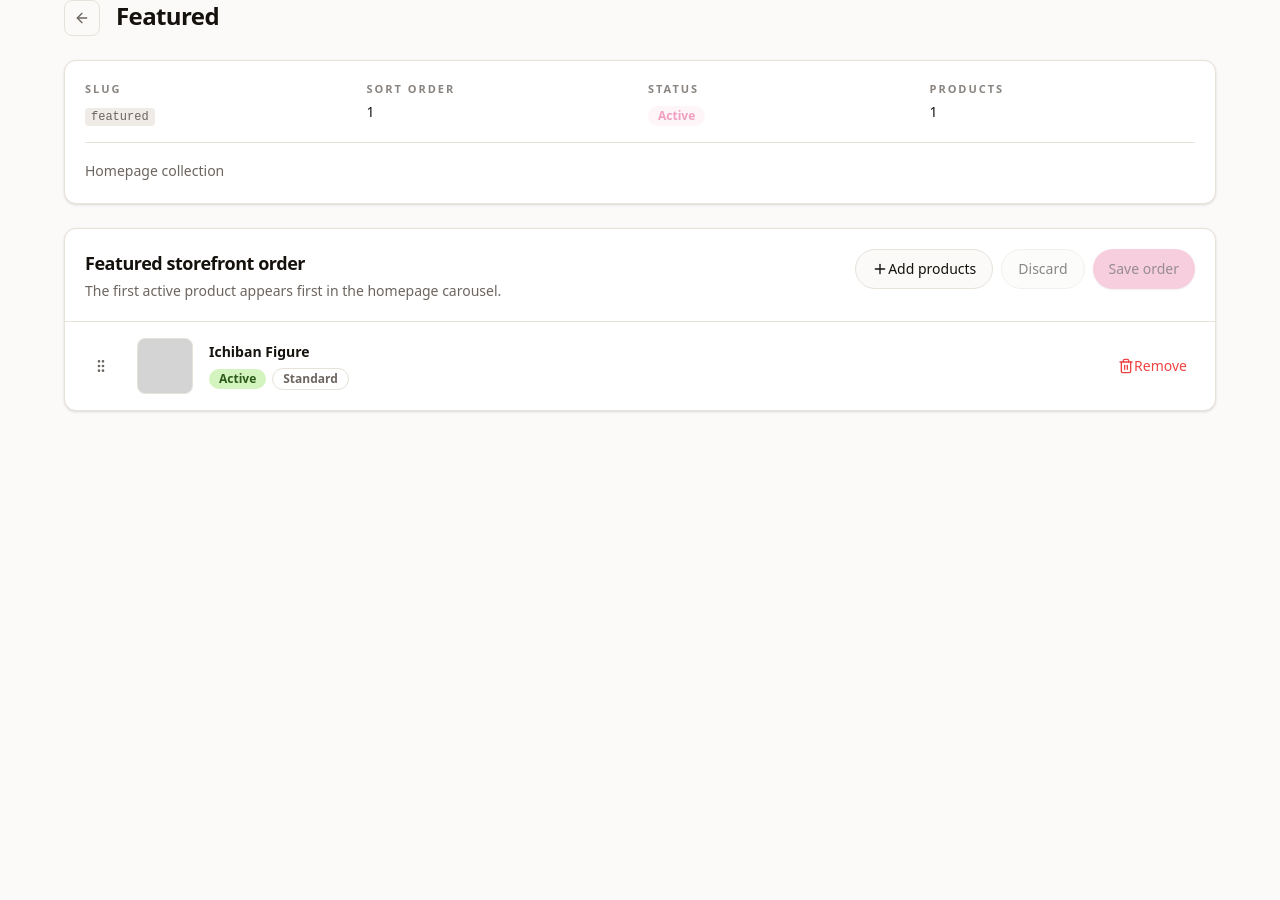
Scenario: AdminCollectionDetailPageClient › excludes products that are already assigned to the collection
Click the button "Add products" at (924, 268), box [855,248,993,288]
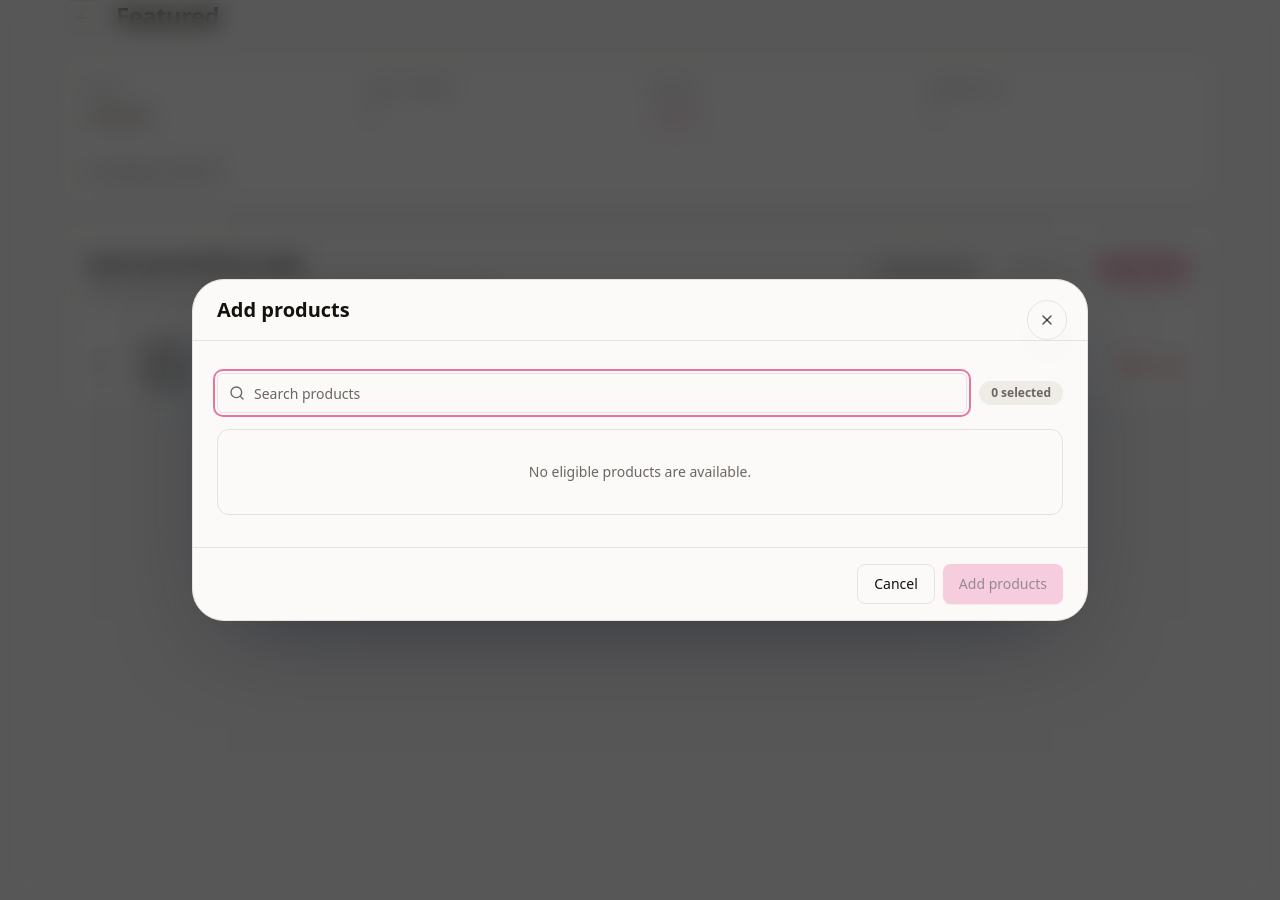
Expected: the text "No eligible products are available." is shown, [529,462,751,481]
Expected: the text "0 selected" is shown, [979,381,1063,405]
Expected: the button "Add products" is disabled, [943,564,1063,604]
